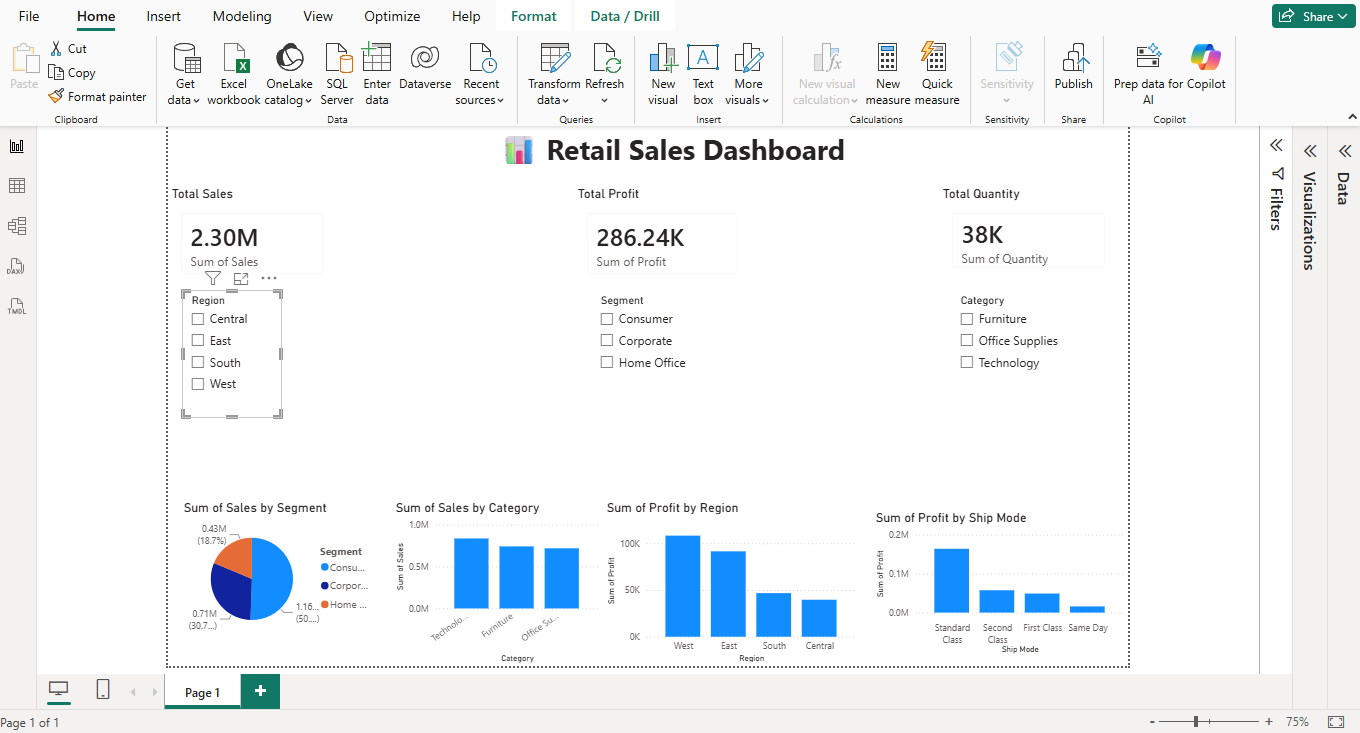

This screenshot's page, from the dashboard's own definition file:
{"tool":"powerbi","page":{"name":"Page 1","canvas":[1280,720],"ordinal":0},"visuals":[{"type":"cardVisual","title":"Total Sales","fields":{"Data":["Sum(SampleSuperstore.Sales)"]},"box":[0,79.8,224.3,134.9],"z":0},{"type":"cardVisual","title":"Total Profit","fields":{"Data":["Sum(SampleSuperstore.Profit)"]},"box":[540.9,79.8,235.4,134.9],"z":3},{"type":"cardVisual","title":"Total Quantity","fields":{"Data":["Sum(SampleSuperstore.Quantity)"]},"box":[1028.1,79.8,238.1,126.6],"z":4},{"type":"clusteredColumnChart","fields":{"Category":["SampleSuperstore.Category"],"Y":["Sum(SampleSuperstore.Sales)"]},"box":[298.7,498.2,280.8,221.6],"z":5},{"type":"pieChart","fields":{"Category":["SampleSuperstore.Segment"],"Y":["Sum(SampleSuperstore.Sales)"]},"box":[16.5,498.2,269.8,191.3],"z":7},{"type":"clusteredColumnChart","fields":{"Category":["SampleSuperstore.Ship Mode"],"Y":["Sum(SampleSuperstore.Profit)"]},"box":[938.7,512,341.3,196.8],"z":8},{"type":"slicer","fields":{"Values":["SampleSuperstore.Region"]},"box":[19.3,218.8,132.1,170.7],"z":9},{"type":"slicer","fields":{"Values":["SampleSuperstore.Category"]},"box":[1044.6,218.8,159.7,191.3],"z":10},{"type":"slicer","fields":{"Values":["SampleSuperstore.Segment"]},"box":[564.3,218.8,154.2,231.2],"z":11},{"type":"clusteredColumnChart","fields":{"Category":["SampleSuperstore.Region"],"Y":["Sum(SampleSuperstore.Profit)"]},"box":[579.4,498.2,377.1,221.6],"z":12},{"type":"textbox","box":[385.4,0,575.3,63.3],"z":14}]}

Visuals, with their boxes on the page's 1280x720 design canvas (x1, y1, x2, y2). These are canvas units, not pixel positions in the 1360x733 screenshot, which may show the page scaled, cropped or inside an application window:
"Total Sales" cardVisual: left=0, top=80, right=224, bottom=215
"Total Profit" cardVisual: left=541, top=80, right=776, bottom=215
"Total Quantity" cardVisual: left=1028, top=80, right=1266, bottom=206
clusteredColumnChart - SampleSuperstore.Category x Sum(SampleSuperstore.Sales): left=299, top=498, right=580, bottom=720
pieChart - SampleSuperstore.Segment x Sum(SampleSuperstore.Sales): left=16, top=498, right=286, bottom=690
clusteredColumnChart - SampleSuperstore.Ship Mode x Sum(SampleSuperstore.Profit): left=939, top=512, right=1280, bottom=709
slicer - SampleSuperstore.Region: left=19, top=219, right=151, bottom=390
slicer - SampleSuperstore.Category: left=1045, top=219, right=1204, bottom=410
slicer - SampleSuperstore.Segment: left=564, top=219, right=718, bottom=450
clusteredColumnChart - SampleSuperstore.Region x Sum(SampleSuperstore.Profit): left=579, top=498, right=956, bottom=720
textbox: left=385, top=0, right=961, bottom=63
